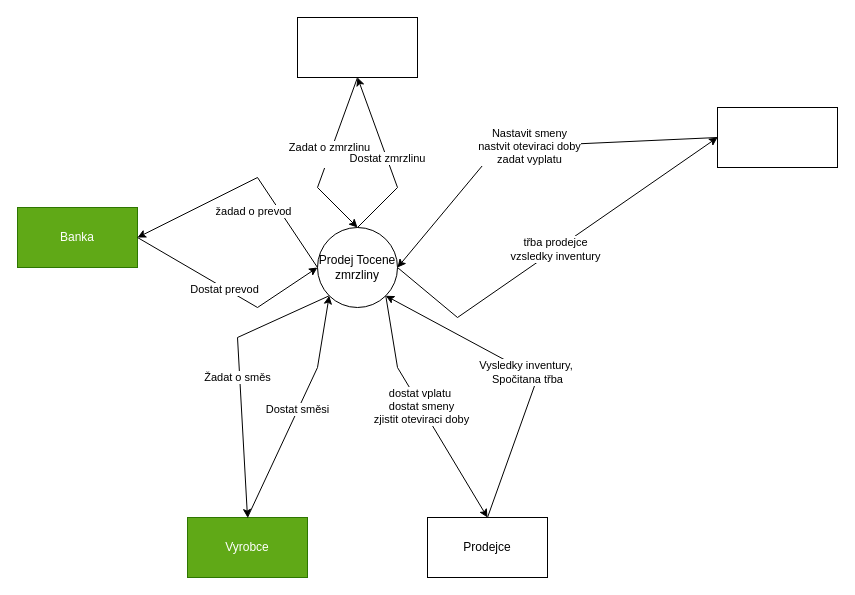
This 855x595 diagram has some shape labels left out. Each missing label, with the centre of its shape:
Provozni: (x=777, y=137)
Zakaznik: (x=357, y=47)
